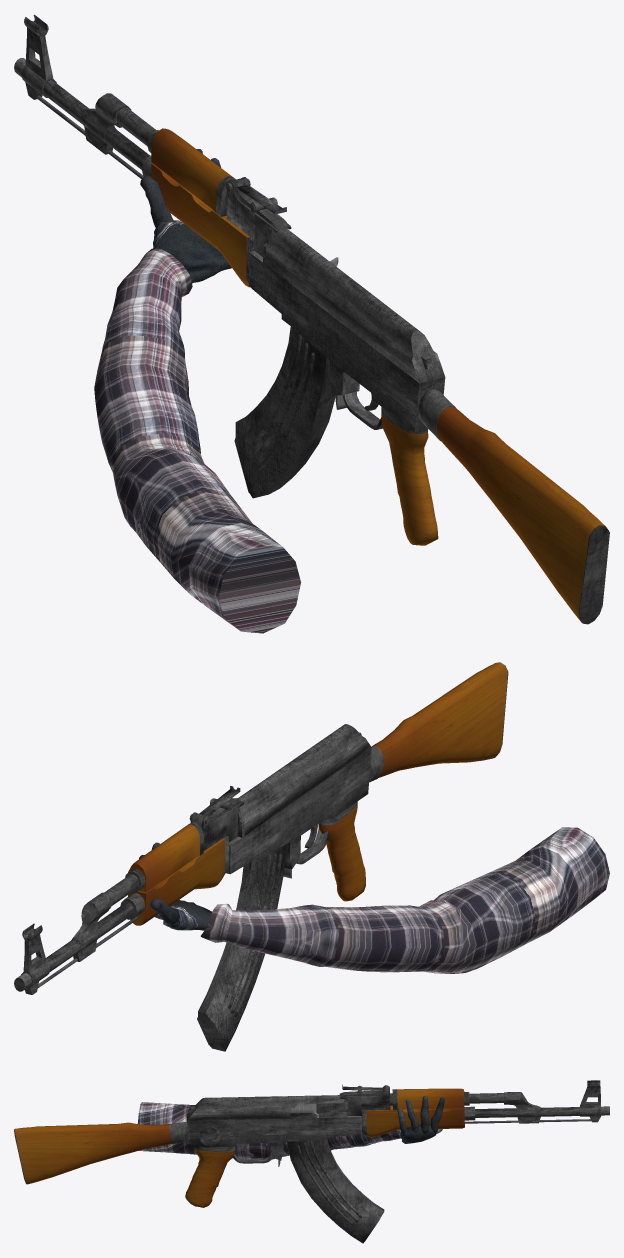
The model's file is ak47_ads_fire.fbx.
The picture shows the model from 3 angles, top to bottom: view 1: azimuth 30°, elevation 25°; view 2: azimuth 150°, elevation 25°; view 3: azimuth 270°, elevation 25°; orthographic projection. The views are drawn at different scales.
Parts seen in each view (by area): view 1: larm, ak47_stock, ak47_magazine, ak47_upperbody, ak47_lowerbody, ak47_grip, ak47_barrel, ak47_pistolgrip, ak47_stockmetal, lhand, ak47_sightblock, ak47_frontsight (+1 smaller); view 2: larm, ak47_stock, ak47_magazine, ak47_lowerbody, ak47_upperbody, ak47_grip, ak47_barrel, ak47_pistolgrip, ak47_sightblock, ak47_frontsight, lhand, ak47_stockmetal; view 3: ak47_stock, ak47_magazine, ak47_lowerbody, ak47_upperbody, larm, ak47_grip, ak47_barrel, ak47_pistolgrip, ak47_sightblock, ak47_selector, ak47_frontsight, ak47_stockmetal (+5 smaller).
Boxes of the visible parts, box(x1,y1,x2,y2) form: larm: box(94, 248, 300, 633); ak47_stock: box(436, 406, 608, 622); ak47_magazine: box(234, 326, 335, 498); ak47_upperbody: box(263, 228, 444, 383); ak47_lowerbody: box(248, 250, 445, 433); ak47_grip: box(151, 128, 249, 287); ak47_barrel: box(14, 58, 158, 179); ak47_pistolgrip: box(381, 411, 438, 545); ak47_stockmetal: box(418, 388, 609, 624); lhand: box(153, 220, 231, 283); ak47_sightblock: box(226, 177, 291, 256); ak47_frontsight: box(21, 14, 56, 97); larm: box(200, 827, 609, 973); ak47_stock: box(372, 662, 507, 777); ak47_magazine: box(197, 844, 286, 1051); ak47_lowerbody: box(226, 748, 371, 874); ak47_upperbody: box(236, 724, 371, 837); ak47_grip: box(128, 824, 225, 925); ak47_barrel: box(14, 868, 145, 994); ak47_pistolgrip: box(318, 803, 365, 901); ak47_sightblock: box(189, 798, 244, 850); ak47_frontsight: box(21, 923, 49, 987); lhand: box(155, 900, 211, 930); ak47_stockmetal: box(369, 663, 508, 782); ak47_stock: box(15, 1122, 172, 1184); ak47_magazine: box(287, 1139, 384, 1243); ak47_lowerbody: box(187, 1116, 362, 1151); ak47_upperbody: box(186, 1095, 347, 1120); larm: box(137, 1102, 400, 1159); ak47_grip: box(366, 1088, 464, 1137); ak47_barrel: box(464, 1092, 609, 1123); ak47_pistolgrip: box(185, 1148, 235, 1207); ak47_sightblock: box(339, 1085, 390, 1115); ak47_selector: box(222, 1122, 286, 1135); ak47_frontsight: box(579, 1080, 601, 1116); ak47_stockmetal: box(14, 1121, 190, 1184).
Bounding box in the file's own units: 14.21 × 14.24 × 48.
6 materials, 6 textured.
